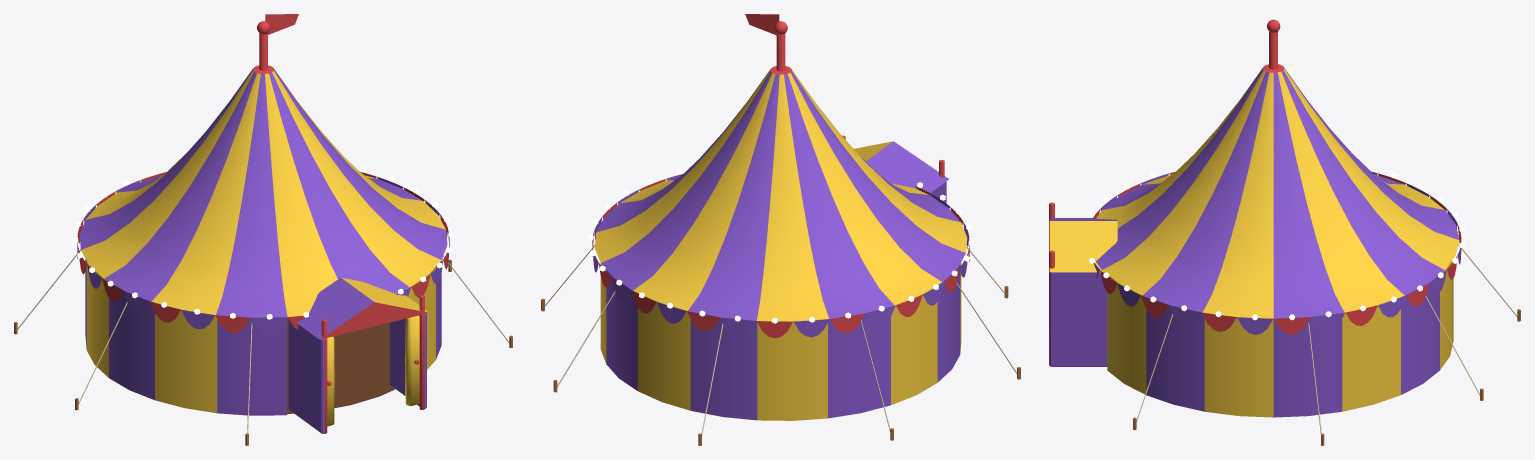
File: tenda_circo_media.glb
3 renders of one model, left to right at view 1: azimuth 30°, elevation 25°; view 2: azimuth 150°, elevation 25°; view 3: azimuth 270°, elevation 25°, orthographic.
Visible parts, largest first — view 1: tenda_circo_media; view 2: tenda_circo_media, bandeira; view 3: tenda_circo_media.
Boxes of the visible parts, <box> form: tenda_circo_media: <box>14,21,512,445</box>; tenda_circo_media: <box>541,21,1020,445</box>; bandeira: <box>745,14,779,35</box>; tenda_circo_media: <box>1049,19,1520,445</box>.
Size of the model in its own units: 10.17 by 7.45 by 9.7.
Materials: 2 (1 with a texture image).
